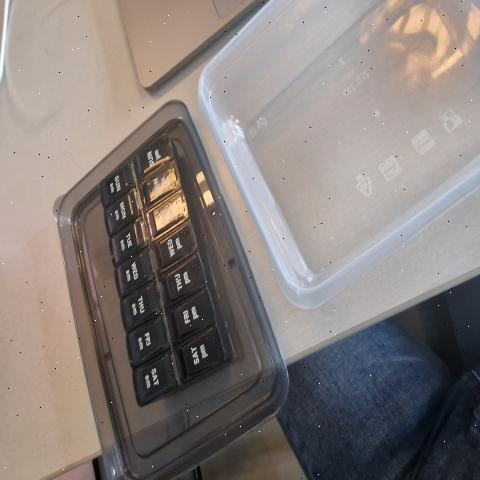PillBox: (92, 125, 257, 416)
